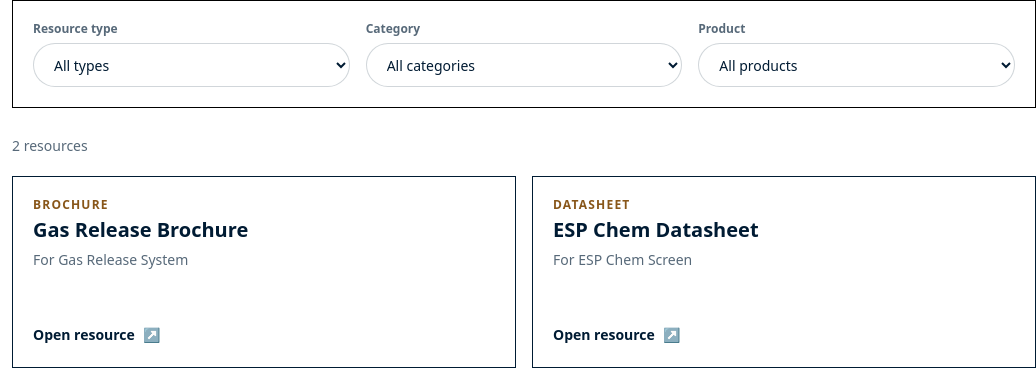
Test case: ResourceListClient › filters by product
Select "Gas Release System" in the dropdown named "Filter by product". click: (857, 65)
box: top-left (698, 43), bottom-right (1015, 87)
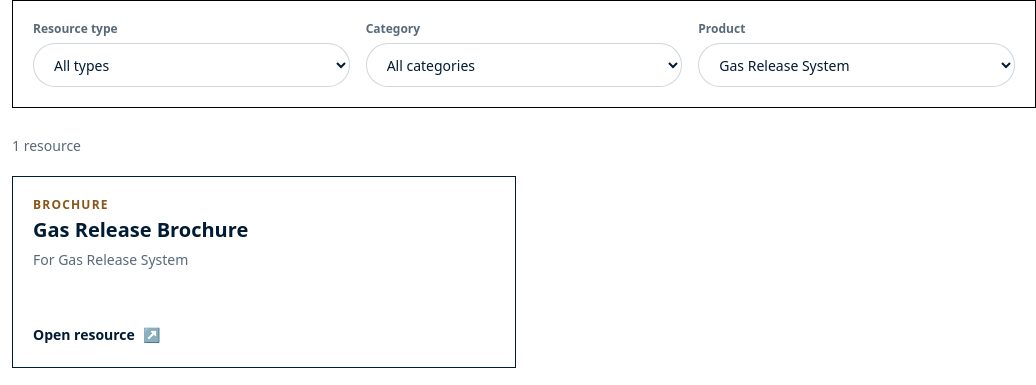
expect the heading "Gas Release Brochure" is shown: met, box top-left (33, 216), bottom-right (248, 243)
expect the heading "ESP Chem Datasheet" is gone: met
